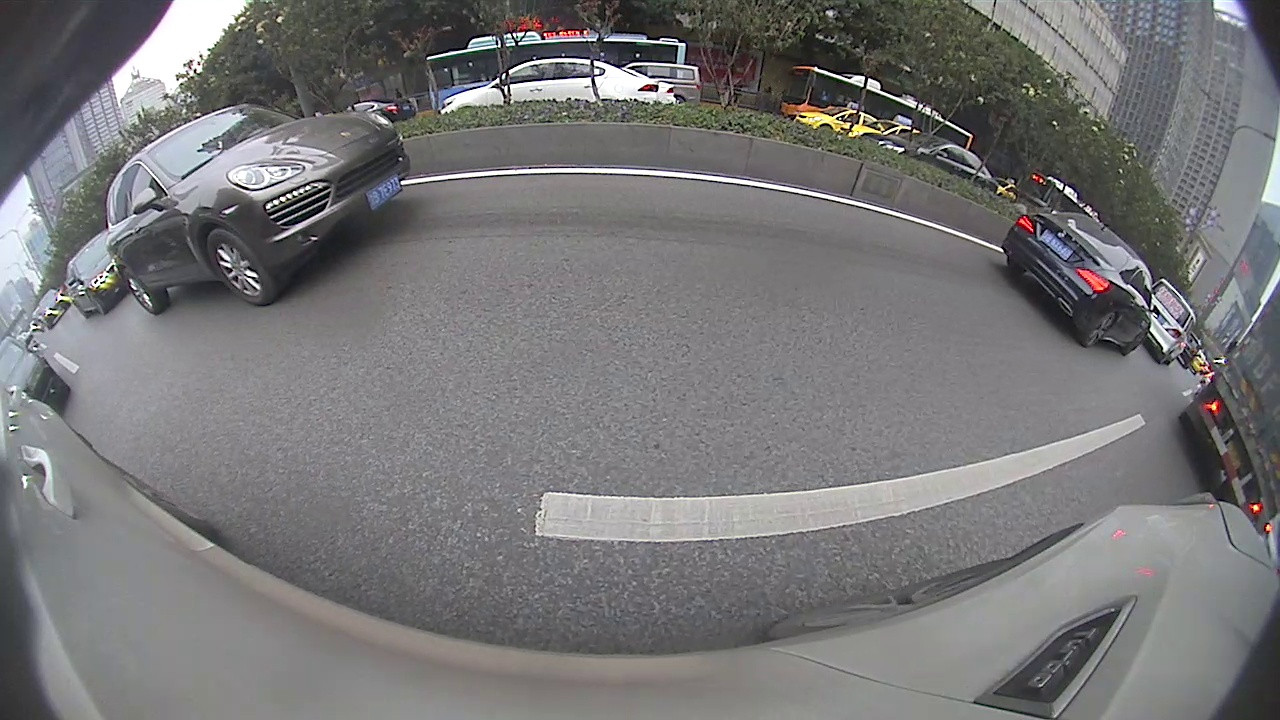car: (8, 182, 408, 460), (443, 145, 548, 220), (597, 147, 650, 196), (533, 158, 581, 195), (660, 155, 706, 190)
front: (366, 217, 403, 268)
person: (867, 138, 885, 208)
rear: (109, 322, 200, 422), (509, 182, 527, 213)
